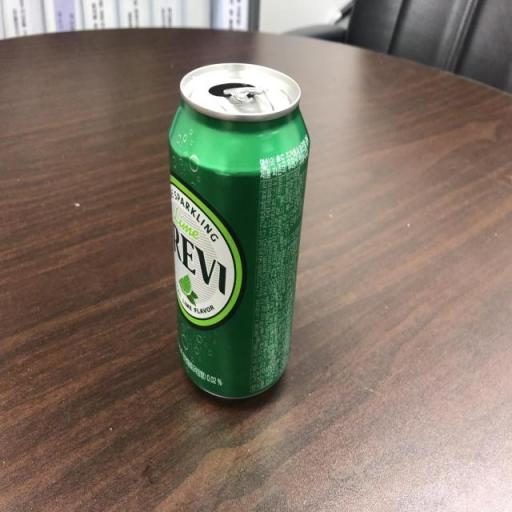metal: (155, 50, 321, 416)
